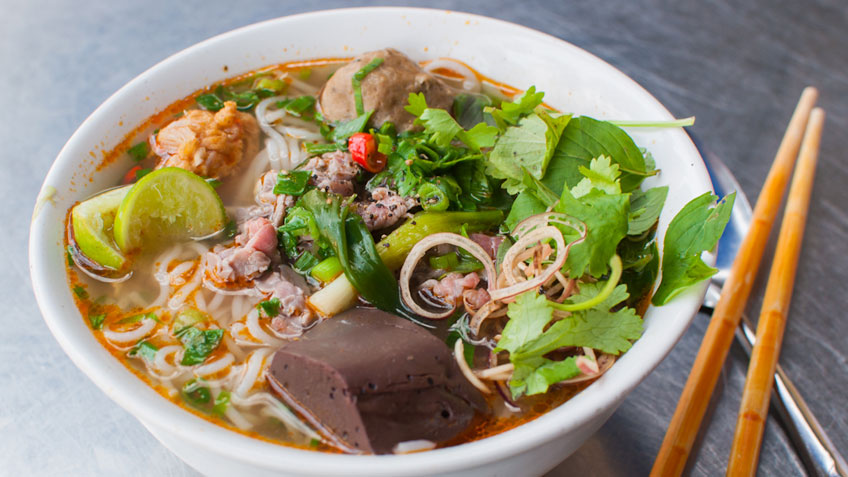chilli: (345, 127, 391, 175)
onion: (359, 128, 507, 216)
vegetable: (499, 200, 636, 341)
